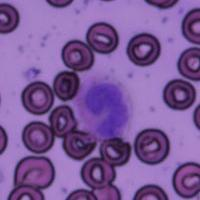N: (72, 72, 134, 142)
